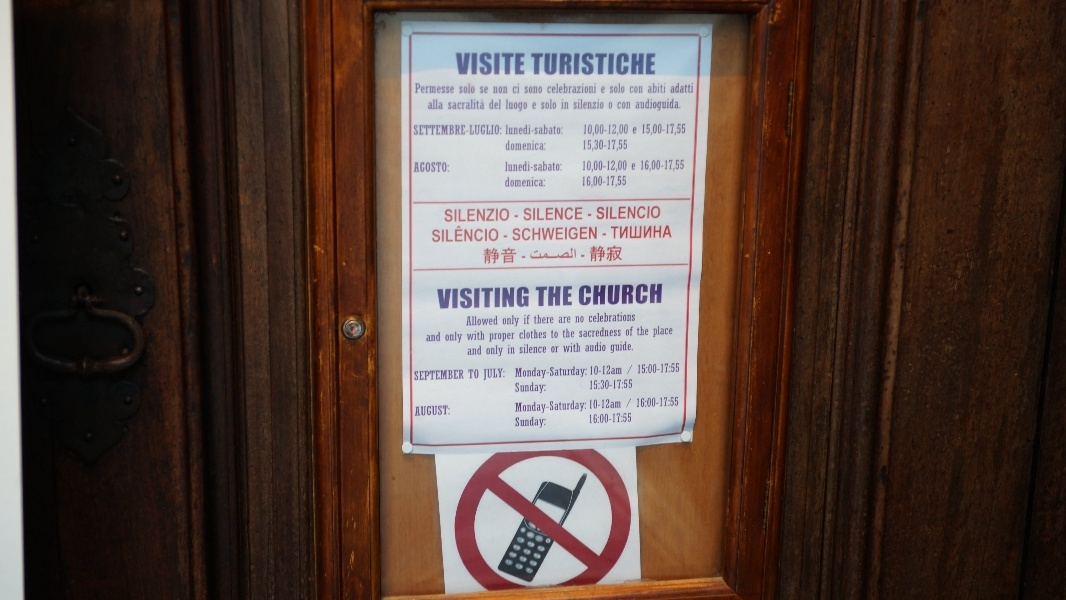text: (449, 285, 464, 311), (465, 285, 480, 311), (481, 285, 496, 311), (497, 285, 512, 311), (513, 285, 528, 311), (545, 283, 560, 309), (465, 51, 480, 76), (481, 51, 496, 76), (497, 51, 512, 76), (545, 52, 560, 77), (561, 52, 576, 77), (577, 52, 592, 77), (593, 52, 608, 77), (609, 52, 624, 77), (625, 52, 640, 77), (641, 52, 656, 77), (577, 282, 592, 307), (593, 282, 608, 307), (609, 282, 624, 307), (625, 282, 640, 307), (641, 282, 656, 307), (561, 283, 575, 309), (513, 51, 527, 76), (531, 52, 544, 77), (433, 223, 448, 244), (449, 223, 464, 244), (465, 223, 480, 244), (481, 223, 496, 244), (497, 223, 512, 244), (513, 223, 528, 244), (529, 223, 544, 244), (545, 223, 560, 244), (561, 223, 576, 244), (577, 223, 592, 244), (593, 223, 608, 244), (609, 223, 624, 244), (625, 223, 640, 244), (641, 223, 656, 244), (657, 223, 672, 244), (436, 285, 448, 311), (449, 204, 464, 224), (465, 204, 480, 224), (481, 204, 496, 224), (497, 204, 512, 224), (513, 204, 528, 224), (529, 204, 544, 224), (545, 204, 560, 224), (561, 204, 576, 224), (577, 204, 592, 224), (593, 204, 608, 224), (609, 204, 624, 224), (625, 204, 640, 224), (641, 204, 656, 224), (534, 283, 544, 309), (513, 99, 529, 114), (641, 97, 656, 113), (657, 97, 672, 113), (513, 122, 528, 138), (529, 122, 544, 138), (545, 122, 560, 138), (455, 51, 464, 76), (513, 159, 528, 174), (529, 159, 544, 174), (545, 159, 560, 174), (593, 123, 608, 138), (609, 123, 624, 138), (657, 123, 672, 138), (673, 123, 688, 138), (593, 159, 608, 174), (609, 159, 624, 174), (641, 159, 656, 174), (657, 159, 672, 174), (529, 399, 544, 414), (545, 399, 560, 414), (561, 399, 576, 414), (513, 415, 528, 430), (529, 415, 544, 430), (593, 361, 608, 376), (609, 361, 624, 376), (625, 361, 640, 376), (641, 361, 656, 376), (657, 361, 672, 376), (657, 325, 673, 339), (561, 81, 576, 95), (577, 81, 592, 95), (513, 139, 528, 153), (529, 139, 544, 153), (642, 123, 656, 138), (593, 139, 608, 153), (609, 139, 624, 153), (593, 176, 608, 190), (609, 176, 624, 190), (673, 159, 687, 174), (610, 340, 624, 355), (529, 381, 544, 395), (593, 378, 608, 392), (609, 378, 624, 392), (593, 396, 608, 410), (609, 396, 624, 410), (625, 396, 640, 410), (641, 396, 656, 410), (657, 396, 672, 410), (593, 412, 608, 426), (609, 412, 624, 426), (449, 98, 464, 111), (465, 98, 480, 111), (417, 124, 432, 137), (433, 124, 448, 137), (449, 124, 464, 137), (465, 124, 480, 137), (481, 124, 496, 137), (417, 161, 432, 174), (433, 161, 448, 174), (593, 311, 608, 324), (609, 311, 624, 324), (593, 326, 608, 339), (417, 404, 432, 417), (433, 404, 448, 417), (529, 366, 544, 379), (545, 366, 560, 379), (561, 366, 576, 379), (515, 399, 528, 414), (449, 331, 463, 344), (609, 326, 623, 339), (562, 341, 576, 354), (482, 368, 496, 381), (514, 366, 528, 379), (515, 381, 528, 395), (417, 83, 432, 95), (433, 83, 448, 95), (673, 82, 688, 94), (561, 99, 576, 111), (577, 98, 592, 110), (513, 176, 528, 188), (529, 176, 544, 188), (481, 315, 496, 327), (465, 330, 480, 342), (497, 332, 512, 344), (529, 343, 544, 355), (417, 369, 432, 381), (433, 369, 448, 381), (449, 369, 464, 381), (577, 399, 589, 414), (657, 282, 664, 307), (579, 326, 592, 339), (548, 81, 560, 95), (545, 99, 559, 111), (593, 341, 607, 353), (581, 159, 592, 174), (529, 329, 544, 340), (673, 97, 683, 113), (593, 98, 606, 110), (467, 315, 480, 327), (625, 311, 637, 324), (467, 344, 480, 356), (577, 366, 589, 379), (610, 83, 624, 94), (562, 328, 576, 339), (529, 86, 544, 96), (625, 340, 635, 355), (465, 83, 477, 95), (468, 368, 480, 380), (501, 315, 512, 328), (582, 176, 592, 190), (486, 344, 496, 358), (433, 99, 444, 111), (583, 139, 592, 153), (625, 378, 634, 392), (657, 83, 668, 94), (497, 86, 509, 96), (504, 159, 512, 174), (657, 204, 663, 224), (532, 315, 544, 325), (673, 361, 681, 376), (497, 368, 506, 381), (505, 122, 512, 138), (504, 139, 512, 153), (673, 396, 681, 410), (625, 412, 633, 426), (518, 329, 528, 340), (625, 326, 635, 337), (532, 102, 544, 111), (519, 343, 528, 355), (505, 99, 512, 114), (585, 123, 592, 138), (513, 315, 521, 328), (647, 83, 656, 94), (497, 344, 504, 358), (641, 325, 649, 337), (497, 124, 504, 137), (630, 85, 640, 94), (630, 162, 640, 171), (545, 315, 554, 325), (550, 330, 560, 339), (513, 83, 521, 94), (433, 331, 441, 342), (593, 81, 599, 95), (489, 99, 496, 111), (505, 176, 512, 188), (489, 332, 496, 344), (585, 341, 592, 353), (481, 85, 490, 94), (551, 345, 560, 354), (635, 97, 640, 113), (444, 204, 448, 224), (561, 316, 571, 324), (481, 98, 487, 111), (449, 83, 455, 95), (689, 82, 695, 94), (497, 99, 503, 111), (625, 101, 633, 110), (481, 330, 487, 342), (426, 331, 432, 342), (561, 122, 565, 138), (633, 126, 640, 135), (673, 223, 676, 244), (577, 315, 584, 324), (459, 83, 464, 95), (609, 101, 615, 111), (561, 159, 565, 174), (625, 123, 629, 138), (506, 345, 512, 355), (545, 139, 549, 153), (625, 139, 629, 153), (652, 325, 656, 339), (545, 381, 549, 395), (588, 412, 592, 426), (523, 314, 528, 325), (602, 85, 608, 94), (618, 101, 624, 110), (529, 285, 531, 311), (577, 341, 581, 354), (545, 343, 549, 355), (625, 159, 628, 174), (545, 415, 548, 430), (589, 361, 592, 376), (625, 176, 628, 190), (589, 378, 592, 392), (513, 345, 517, 355), (445, 331, 448, 344), (449, 404, 452, 417), (641, 85, 645, 94), (429, 99, 432, 111), (541, 99, 544, 111), (573, 98, 576, 110), (545, 176, 548, 188), (513, 332, 516, 344), (637, 325, 640, 337), (545, 329, 548, 340), (493, 86, 496, 96), (525, 86, 528, 96), (590, 396, 592, 410), (414, 124, 416, 137), (414, 161, 416, 174), (449, 161, 451, 174), (590, 311, 592, 324), (414, 404, 416, 417), (657, 52, 658, 77), (670, 82, 672, 94), (497, 315, 499, 327), (481, 344, 483, 356), (414, 369, 416, 381), (625, 83, 627, 94), (529, 314, 531, 325), (558, 316, 560, 324), (415, 83, 416, 95), (465, 369, 466, 381), (511, 83, 512, 94), (479, 85, 480, 94), (575, 315, 576, 324)
